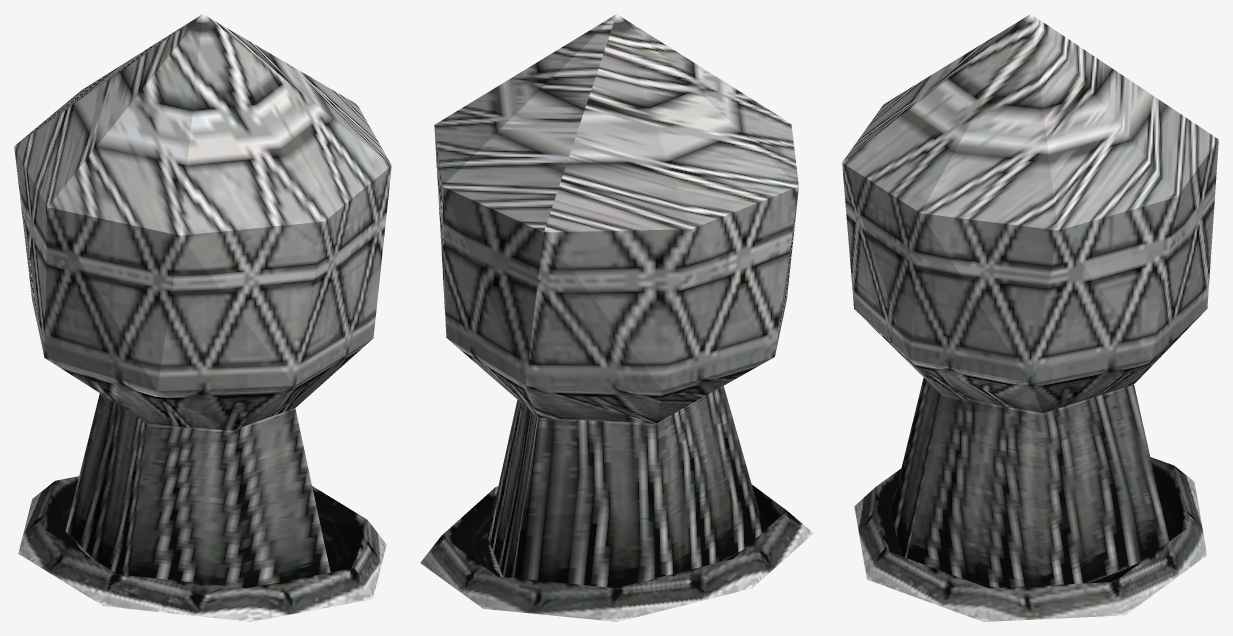
Rendered from star_destroyer_shieldtower_2_l3.fbx.
The picture shows the model from 3 angles, left to right: view 1: azimuth 30°, elevation 25°; view 2: azimuth 150°, elevation 25°; view 3: azimuth 270°, elevation 25°; orthographic projection. The views are drawn at different scales.
Parts seen in each view (by area): view 1: mesh_node; view 2: mesh_node; view 3: mesh_node.
Boxes of the visible parts, x1,y1,x2,y2 form: mesh_node: [14, 14, 391, 621]; mesh_node: [420, 14, 813, 621]; mesh_node: [842, 14, 1218, 621].
Bounding box in the file's own units: 63.96 × 99.94 × 64.04.
Materials: 1 (1 with a texture image).
